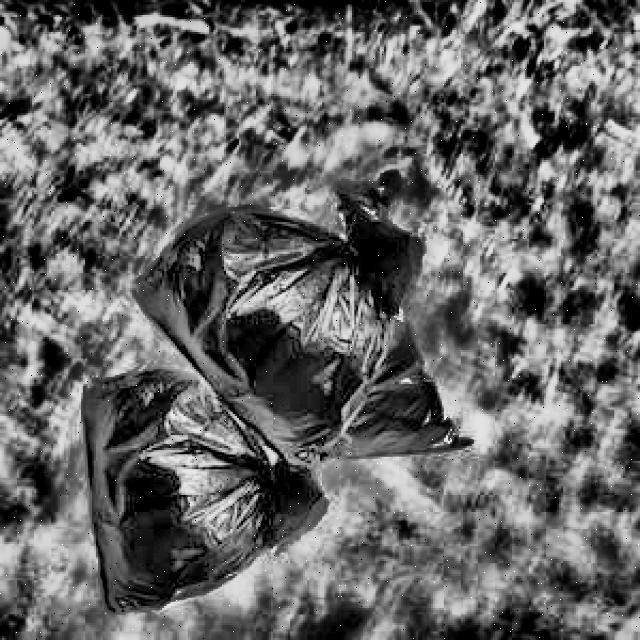Trashbag: (145, 200, 394, 442), (80, 375, 274, 607)
